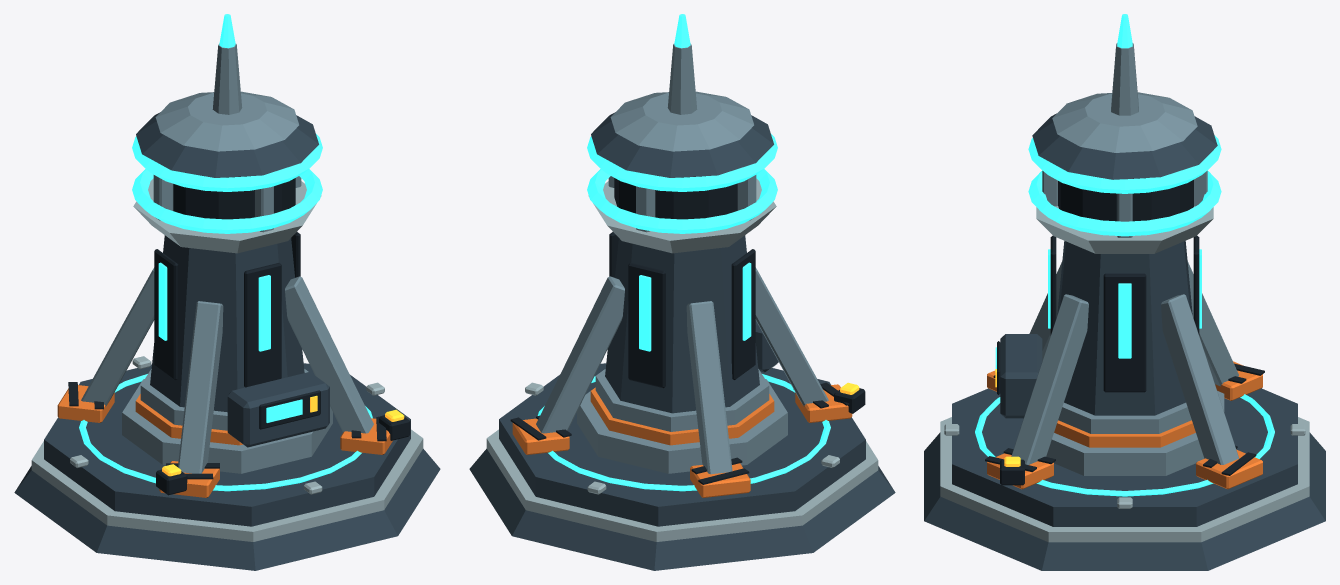
File: relay.glb
The picture shows the model from 3 angles, left to right: view 1: azimuth 30°, elevation 25°; view 2: azimuth 150°, elevation 25°; view 3: azimuth 270°, elevation 25°; orthographic projection.
Parts seen in each view (by area): view 1: LastFrontier_RelayBeacon; view 2: LastFrontier_RelayBeacon; view 3: LastFrontier_RelayBeacon.
Part boxes in pixels (box(x1,y1,x2,y2)): LastFrontier_RelayBeacon: box(14, 14, 440, 570); LastFrontier_RelayBeacon: box(469, 14, 895, 570); LastFrontier_RelayBeacon: box(924, 14, 1325, 570).
Size of the model in its own units: 3.18 by 4.11 by 3.18.
